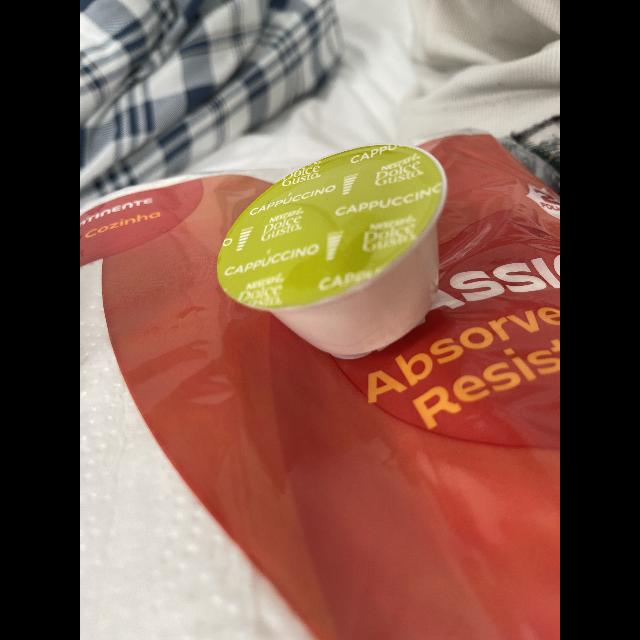intact_capsule: (202, 117, 480, 369)
